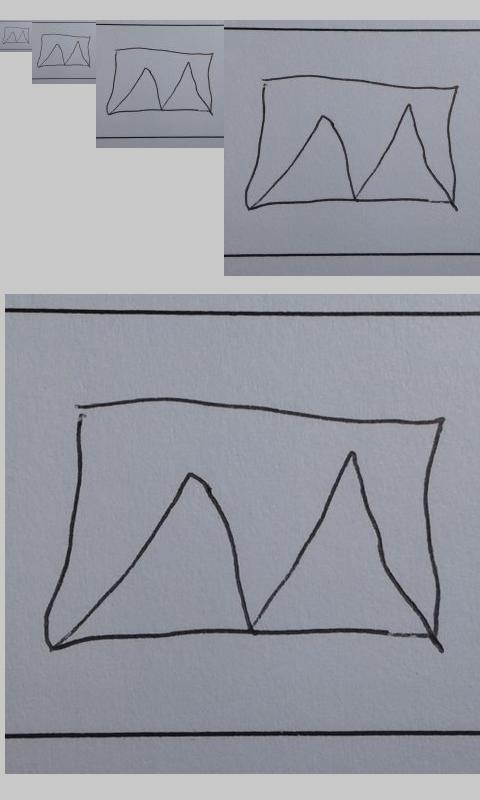image_view: (40, 394, 446, 651), (244, 71, 459, 211), (105, 46, 215, 117), (36, 32, 91, 69), (2, 26, 30, 44)
